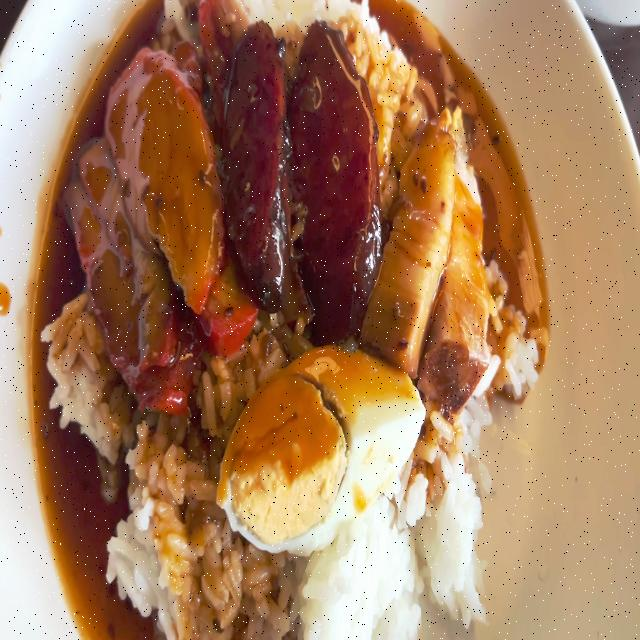boiled_egg: (218, 352, 419, 536)
chainese_sausage: (222, 14, 382, 314), (297, 27, 387, 314), (227, 26, 292, 286)
crispy_pork: (379, 101, 479, 375), (370, 131, 457, 345), (436, 113, 486, 361)
red_pork: (74, 39, 232, 402), (76, 139, 180, 404), (116, 61, 222, 298)
red_pork_and_crispy_pork: (32, 0, 540, 640)
rice: (107, 430, 227, 628), (296, 548, 482, 639), (410, 397, 488, 608), (489, 256, 548, 421), (58, 298, 110, 441)
